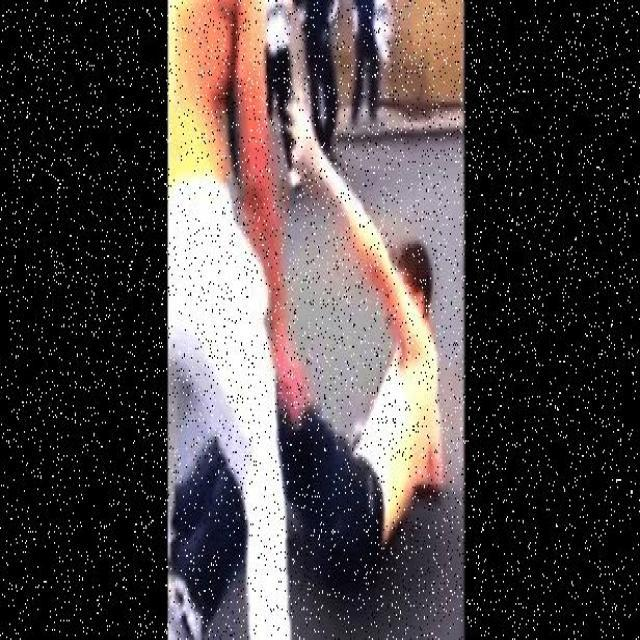fall: (173, 254, 434, 630)
